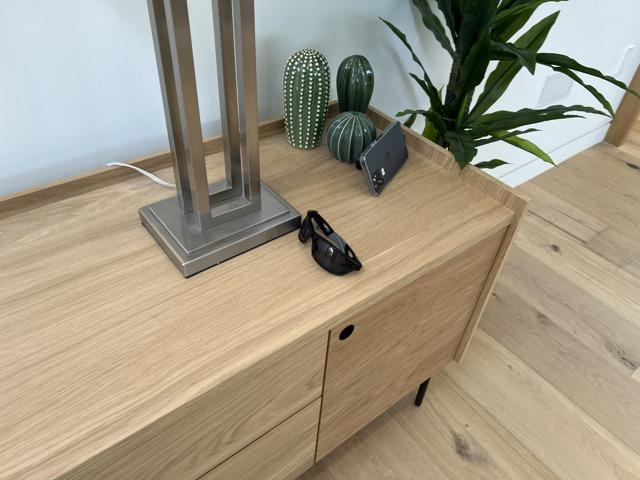Sunglasses: (298, 208, 363, 277)
